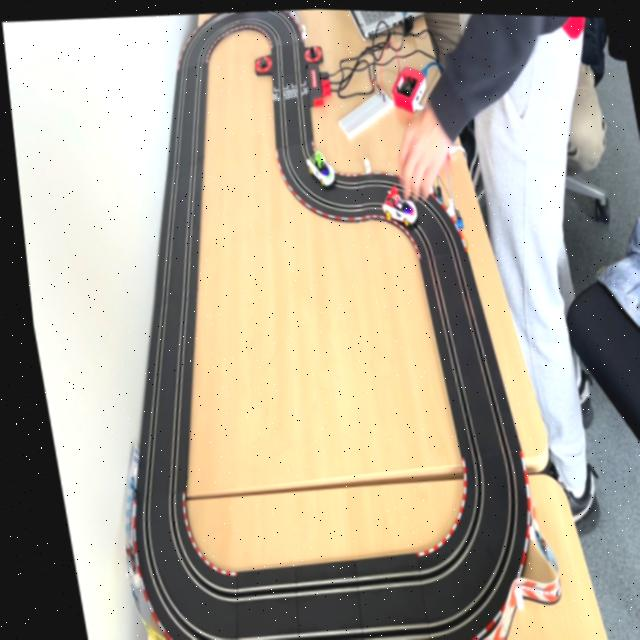mario: (376, 187, 416, 223)
yoshi: (299, 147, 338, 189)
